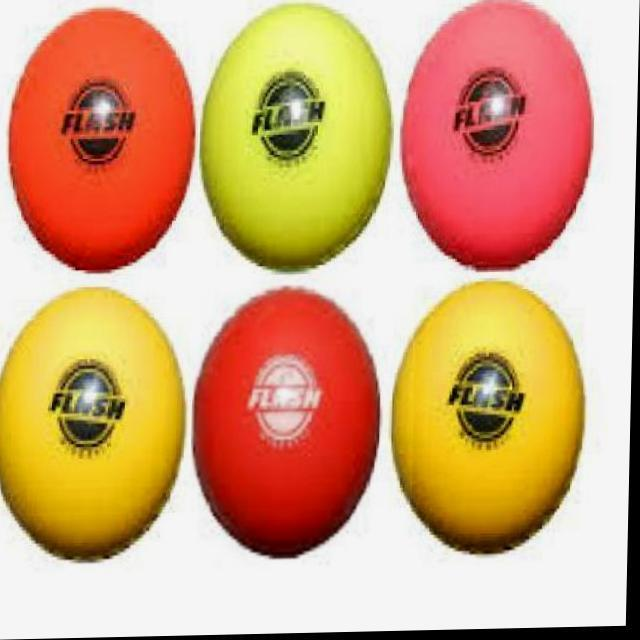-: (191, 278, 380, 560), (413, 282, 590, 578)
